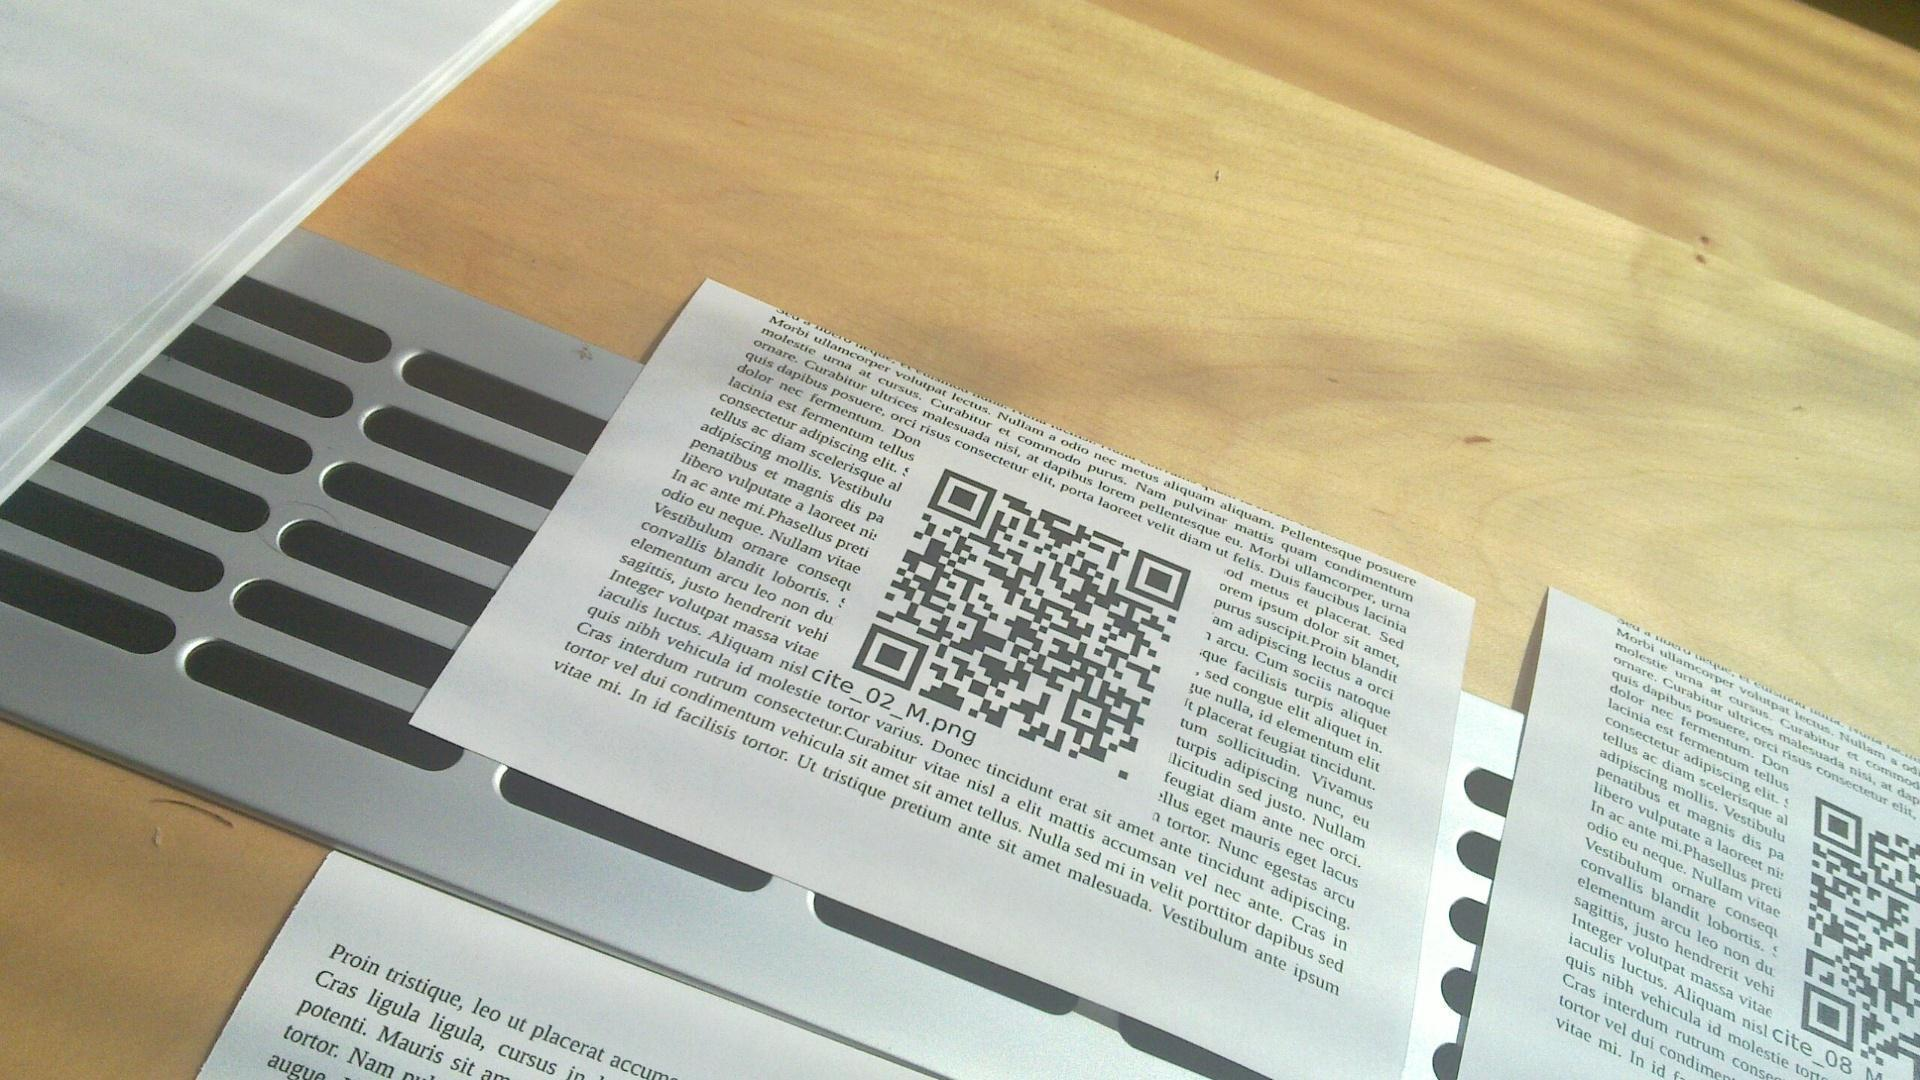qr_code: (852, 467, 1191, 782), (1801, 795, 1920, 1075)
